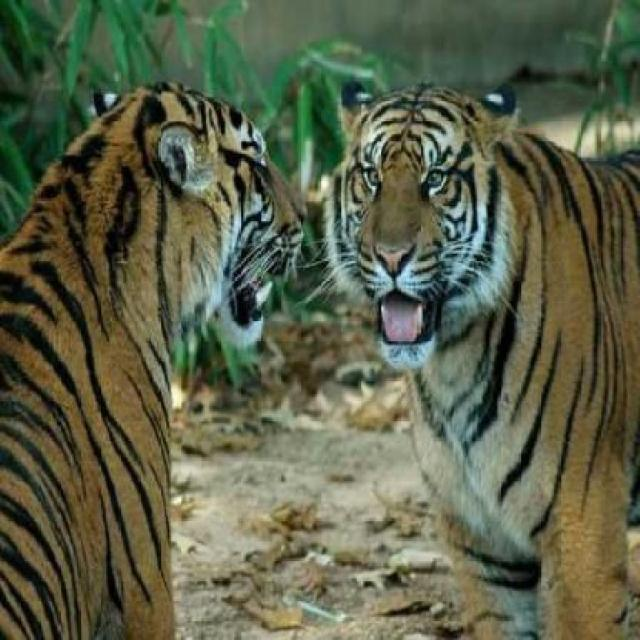tiger: (307, 78, 639, 639), (0, 78, 311, 638)
